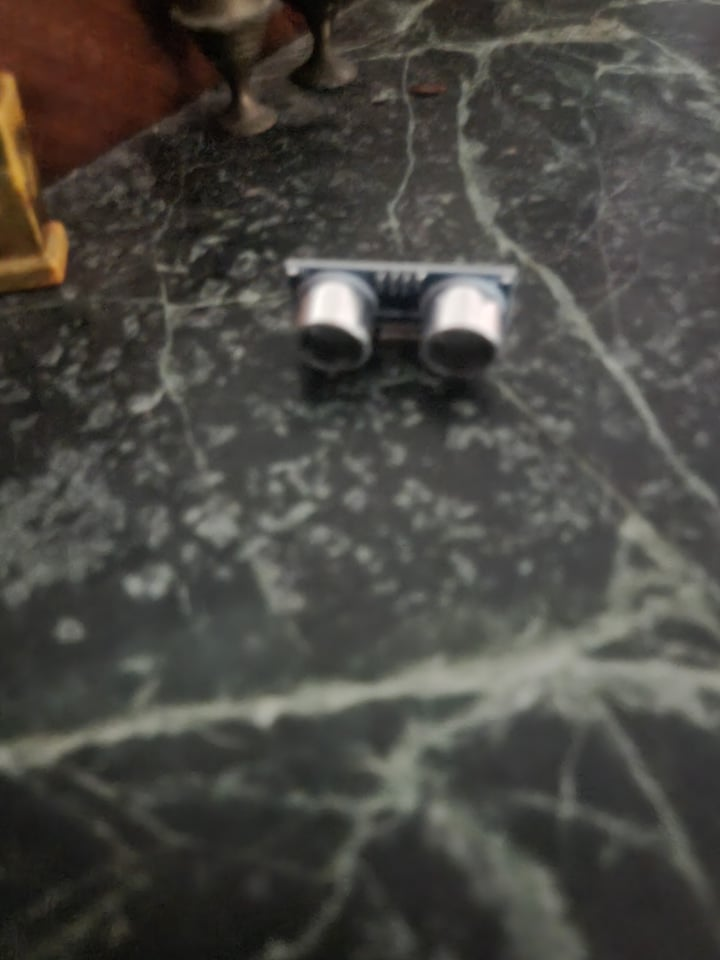SENSOR: (283, 258, 512, 384)
